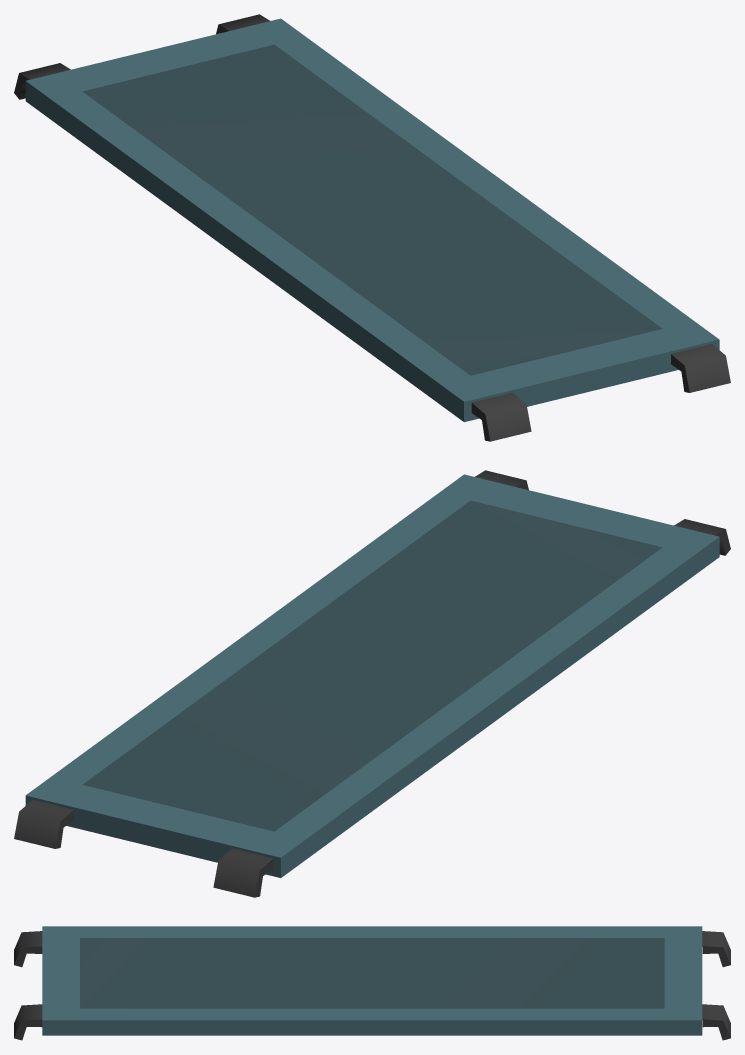
File: Scaffolding_Plank_F.fbx
3 views of the same model, one above another, from view 1: azimuth 30°, elevation 25°; view 2: azimuth 150°, elevation 25°; view 3: azimuth 270°, elevation 25° (orthographic). The views are drawn at different scales.
Visible parts, largest first — view 1: Scaffolding_Plank_F; view 2: Scaffolding_Plank_F; view 3: Scaffolding_Plank_F.
Boxes of the visible parts, x1,y1,x2,y2 form: Scaffolding_Plank_F: (14,14,730,441); Scaffolding_Plank_F: (14,470,730,897); Scaffolding_Plank_F: (14,926,730,1040).
Size of the model in its own units: 65.43 by 7.53 by 211.
